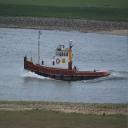tugboat: (22, 40, 113, 87)
